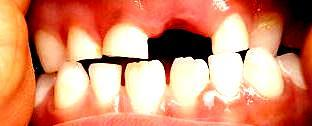Hypodontia: (147, 20, 215, 58)
